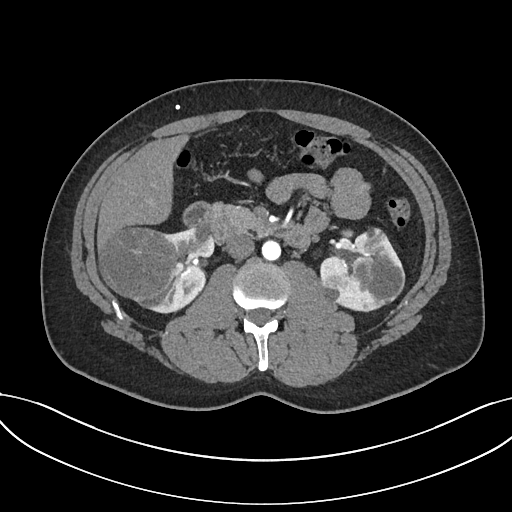Lesion: (95, 225, 180, 310)
